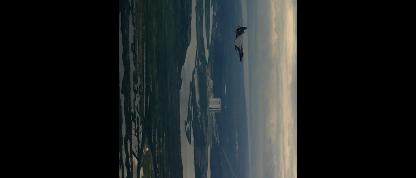F117: (233, 21, 246, 63)
